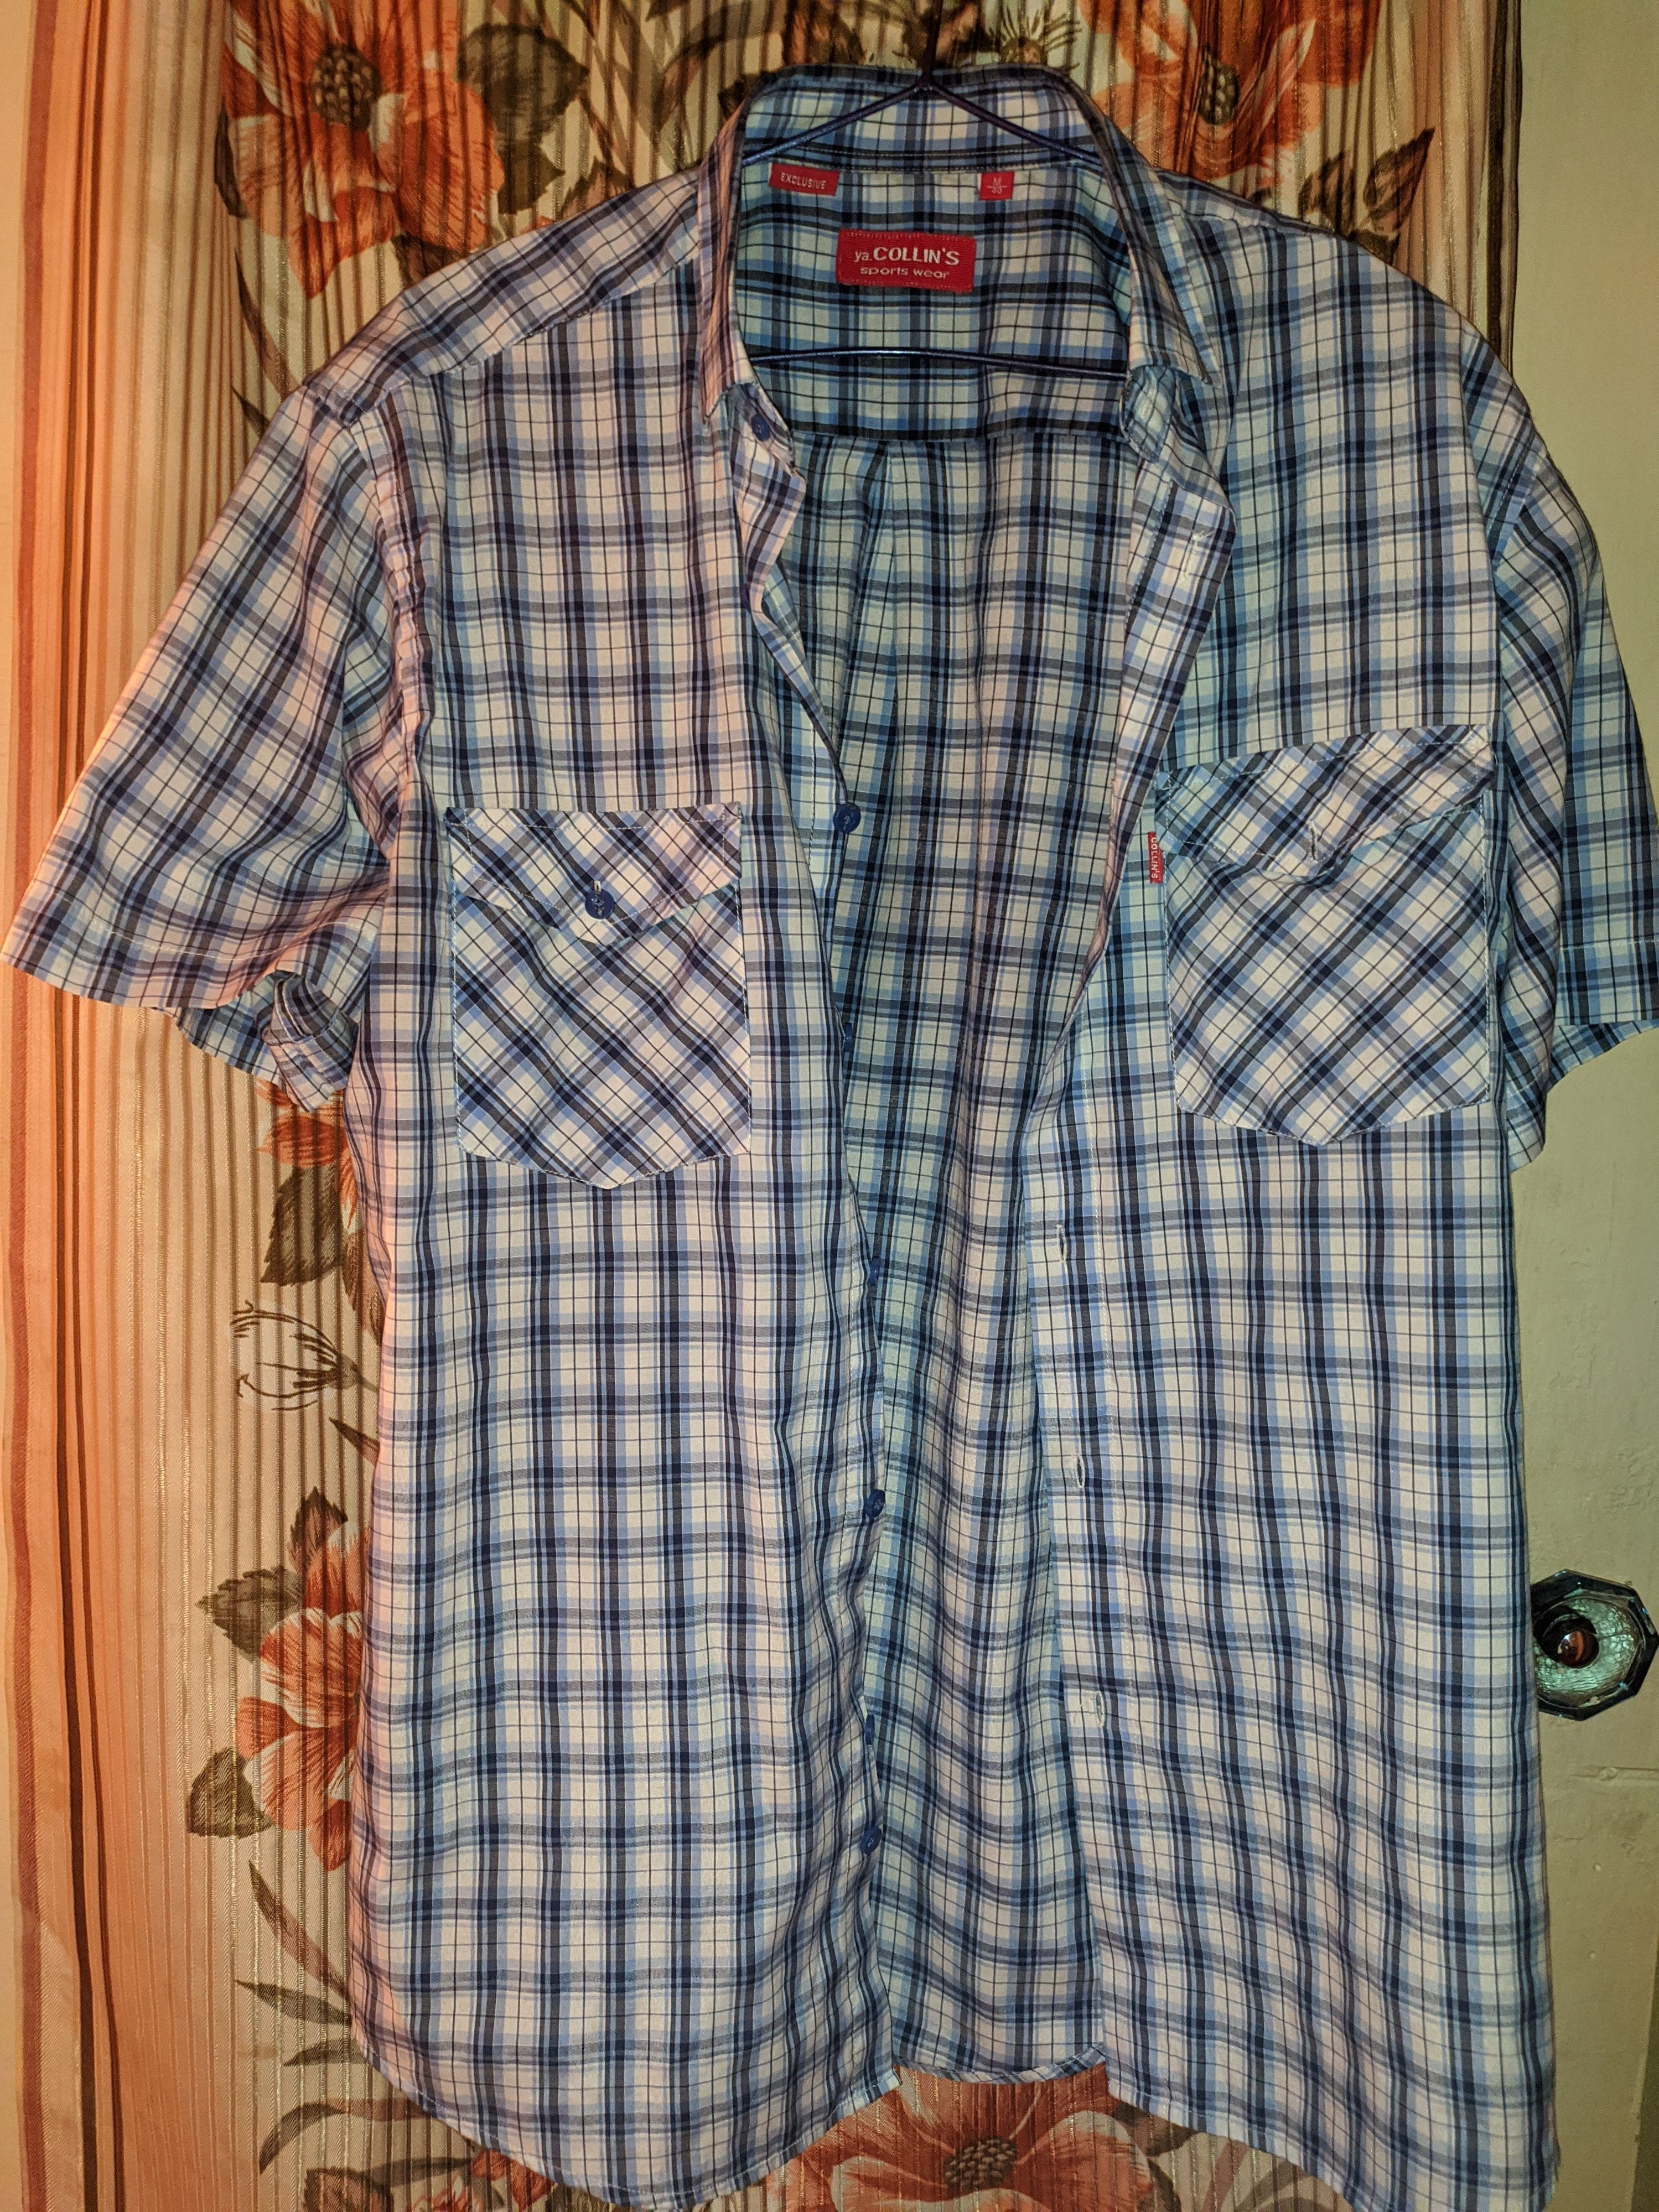clothes: (0, 68, 1572, 2203)
